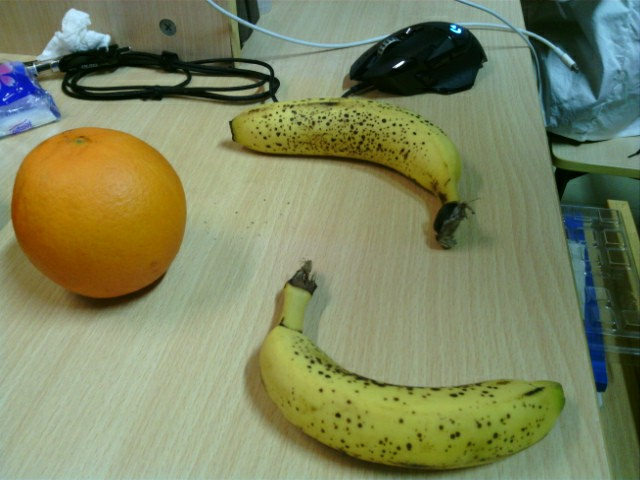normal_banana: (260, 260, 568, 470), (231, 98, 475, 250)
normal_orange: (13, 128, 188, 298)
